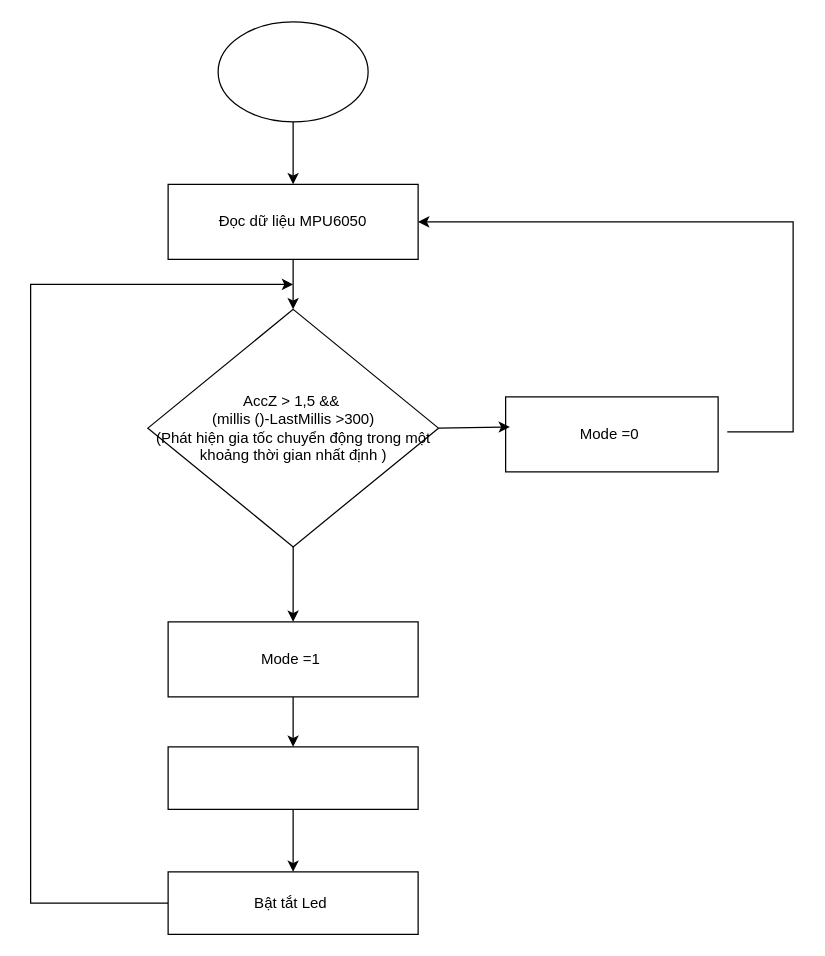
This 825x956 diagram has some shape labels left out. Here are the shapes that lost their labels. From the top down, the box of each, then its label:
(217, 21, 368, 122): BẮT ĐẦU
(167, 746, 418, 809): Tính delay bật tắt LED dựa trên góc quay trục Z
